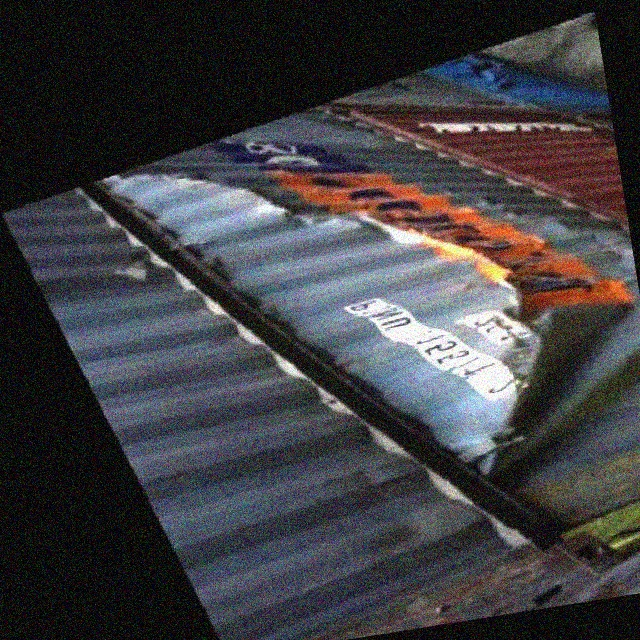Dent: (203, 94, 454, 293), (466, 296, 640, 483)
